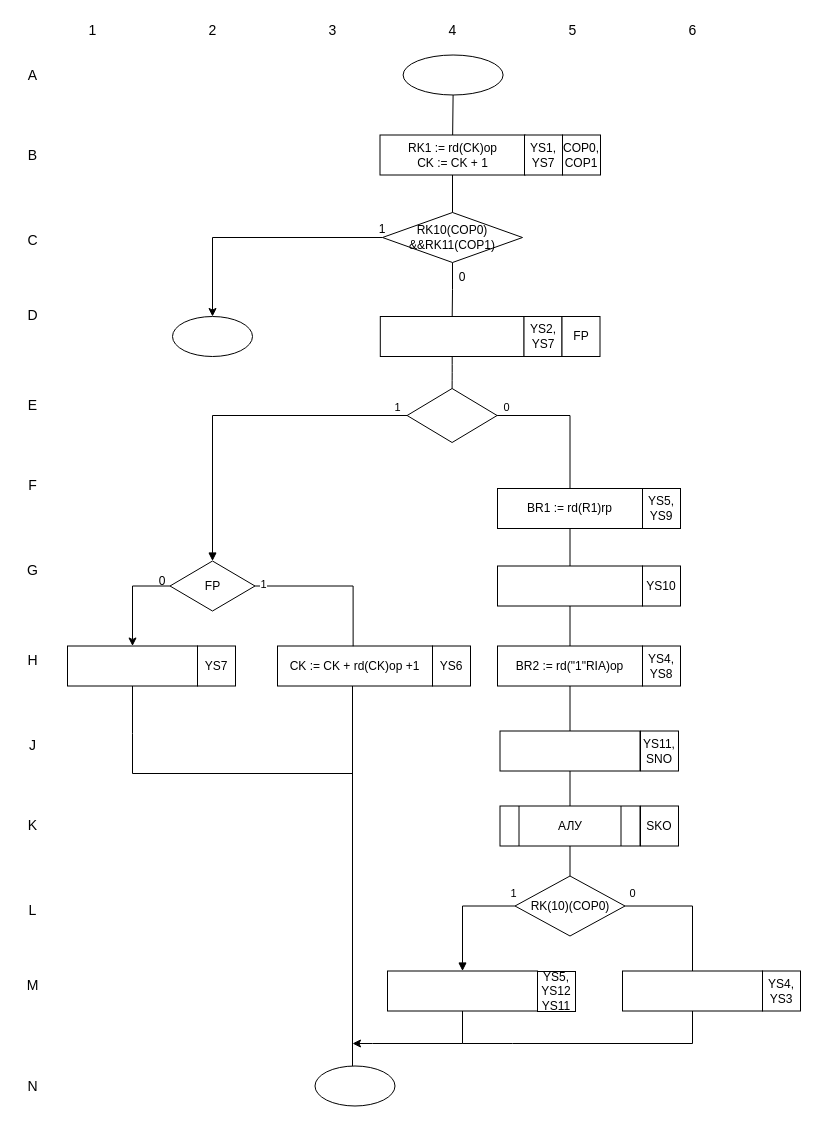
Some shapes in this 818 by 1123 pixel diagram are drawn without their labels. The centre of each missing label's shape, as x and y in pixels:
begin: the point at 452,74
CK := CK +1: the point at 132,665
end: the point at 354,1085
RIA := rd(R2)rp - 1: the point at 569,585
RK11(COP1): the point at 451,415
RK2 := rd(CK)op CK := CK + 1: the point at 451,336
stop: the point at 212,336
wr("1"RIA)op := R: the point at 692,990
wr(R1)rp := R: the point at 462,990
wr(R2)rp := rd(R2)rp - 1: the point at 569,750
